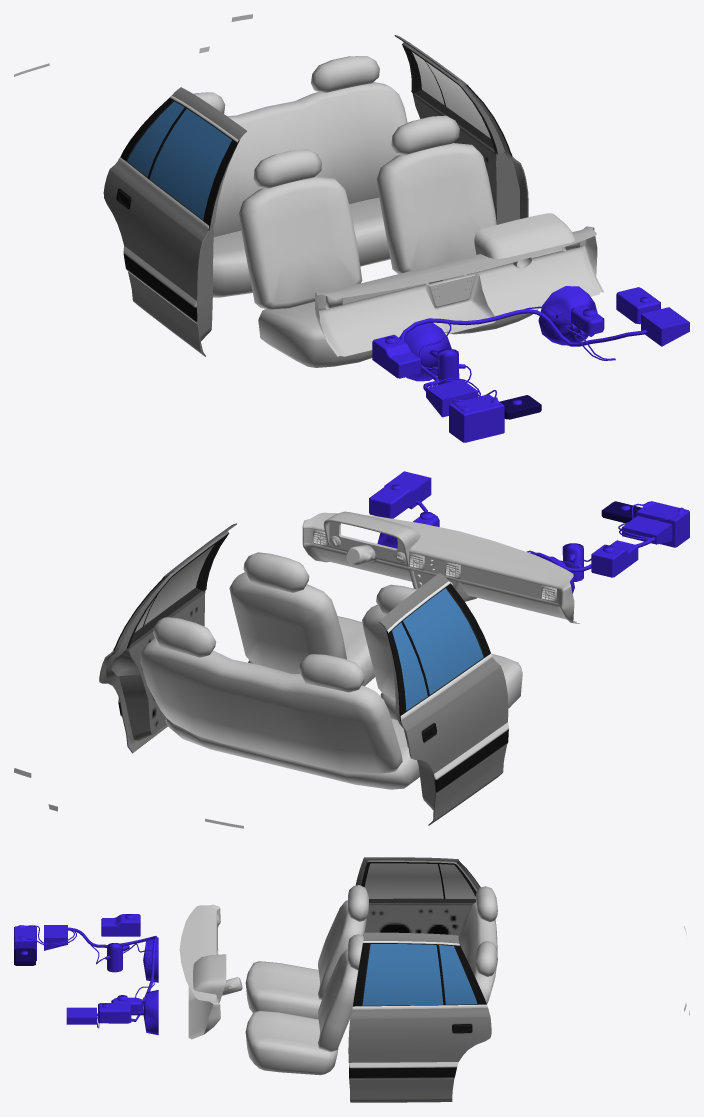
File: UCP_FS.dae
The picture shows the model from 3 angles, top to bottom: view 1: azimuth 30°, elevation 25°; view 2: azimuth 150°, elevation 25°; view 3: azimuth 270°, elevation 25°; orthographic projection. The views are drawn at different scales.
Visible parts, largest first — view 1: fullsize_seats_R, fullsize_dash, fullsize_seat_FR, fullsize_door_RR, fullsize_engbay, fullsize_seat_FL, fullsize_doorglass_RR, fullsize_door_RL, fullsize_doorglass_RL_int; view 2: fullsize_seats_R, fullsize_dash, fullsize_door_RR, fullsize_seat_FL, fullsize_engbay, fullsize_door_RL, fullsize_doorglass_RR, fullsize_seat_FR, fullsize_doorglass_RL_int; view 3: fullsize_door_RL, fullsize_seat_FL, fullsize_engbay, fullsize_doorglass_RL, fullsize_seat_FR, fullsize_dash, fullsize_door_RR, fullsize_doorglass_RR_int, fullsize_seats_R.
Boxes of the visible parts, bbox=[...] form: fullsize_seats_R: bbox=[194, 56, 407, 297]; fullsize_dash: bbox=[315, 213, 603, 356]; fullsize_seat_FR: bbox=[239, 149, 372, 367]; fullsize_door_RR: bbox=[103, 87, 246, 356]; fullsize_engbay: bbox=[372, 286, 689, 442]; fullsize_seat_FL: bbox=[376, 115, 537, 334]; fullsize_doorglass_RR: bbox=[127, 101, 231, 219]; fullsize_door_RL: bbox=[394, 35, 528, 224]; fullsize_doorglass_RL_int: bbox=[412, 52, 490, 138]; fullsize_seats_R: bbox=[140, 617, 419, 789]; fullsize_dash: bbox=[302, 511, 579, 623]; fullsize_door_RR: bbox=[379, 573, 508, 825]; fullsize_seat_FL: bbox=[229, 552, 375, 686]; fullsize_engbay: bbox=[369, 471, 689, 593]; fullsize_door_RL: bbox=[99, 523, 236, 753]; fullsize_doorglass_RR: bbox=[392, 588, 483, 710]; fullsize_seat_FR: bbox=[362, 584, 522, 719]; fullsize_doorglass_RL_int: bbox=[135, 545, 214, 632]; fullsize_door_RL: bbox=[348, 932, 491, 1102]; fullsize_seat_FL: bbox=[245, 934, 363, 1075]; fullsize_engbay: bbox=[14, 914, 158, 1035]; fullsize_doorglass_RL: bbox=[362, 944, 477, 1005]; fullsize_seat_FR: bbox=[245, 885, 368, 1019]; fullsize_dash: bbox=[179, 904, 242, 1039]; fullsize_door_RR: bbox=[355, 857, 480, 935]; fullsize_doorglass_RR_int: bbox=[365, 863, 475, 898]; fullsize_seats_R: bbox=[457, 886, 497, 1003].
Size of what is drawn, in the model's own units: 2.01 by 4.8 by 1.19.
